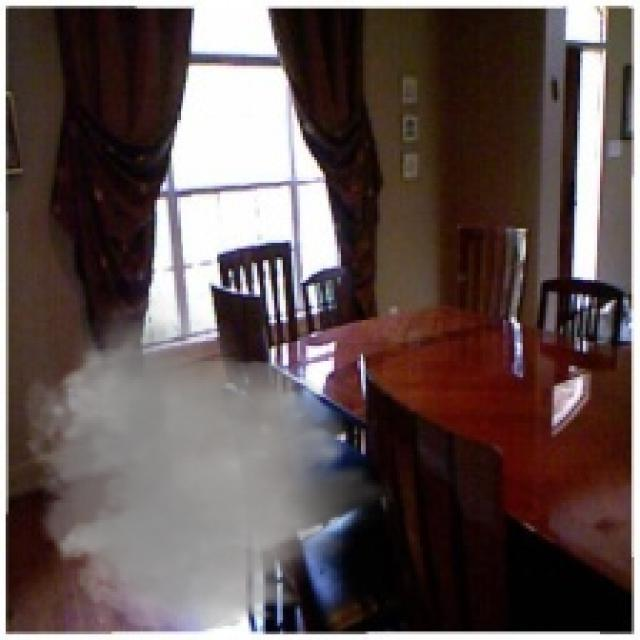Smoke: (9, 292, 398, 637)
